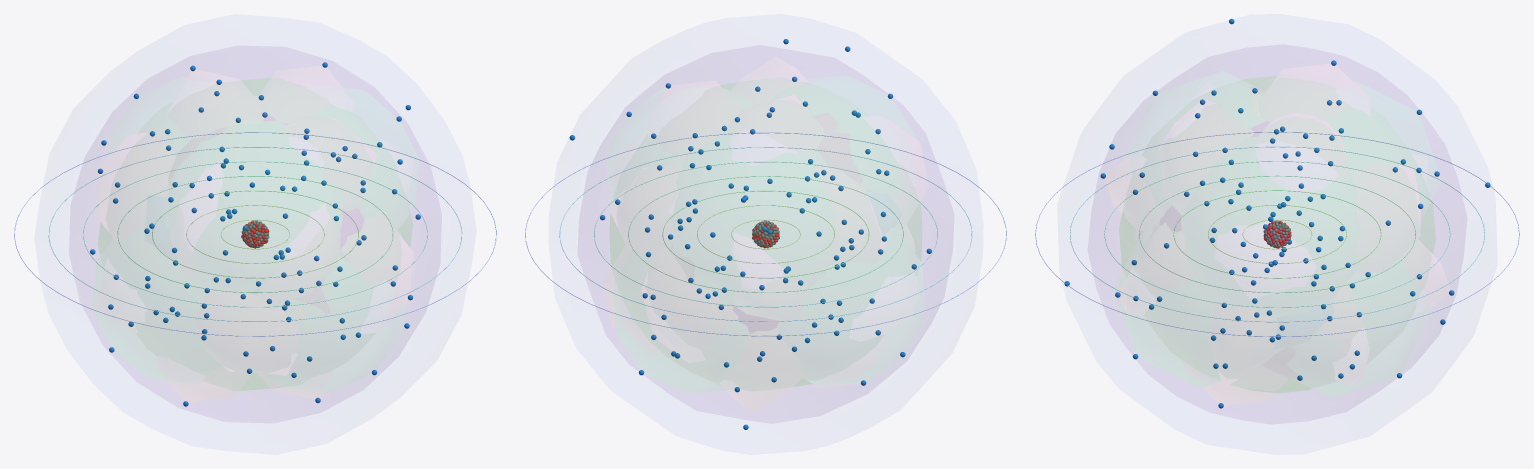
3 renders of one model, left to right at view 1: azimuth 30°, elevation 25°; view 2: azimuth 150°, elevation 25°; view 3: azimuth 270°, elevation 25°, orthographic.
Parts seen in each view (by area): view 1: Nivel_n7, Nivel_n6, Orbital_5s_0, Nivel_n5, Nivel_n4, Nivel_n3; view 2: Nivel_n7, Nivel_n6, Orbital_5s_0, Nivel_n5, Nivel_n4, Nivel_n3; view 3: Orbital_5s_0, Nivel_n7, Nivel_n6, Nivel_n5, Nivel_n4, Nivel_n3.
Part boxes in pixels (x1=…): Nivel_n7: x1=14, y1=132, x2=496, y2=336; Nivel_n6: x1=48, y1=147, x2=462, y2=321; Orbital_5s_0: x1=98, y1=78, x2=412, y2=390; Nivel_n5: x1=83, y1=161, x2=427, y2=307; Nivel_n4: x1=117, y1=176, x2=393, y2=292; Nivel_n3: x1=152, y1=190, x2=358, y2=278; Nivel_n7: x1=525, y1=132, x2=1006, y2=336; Nivel_n6: x1=559, y1=147, x2=972, y2=321; Orbital_5s_0: x1=610, y1=83, x2=921, y2=385; Nivel_n5: x1=594, y1=161, x2=937, y2=307; Nivel_n4: x1=628, y1=176, x2=903, y2=292; Nivel_n3: x1=662, y1=190, x2=869, y2=278; Orbital_5s_0: x1=1119, y1=76, x2=1435, y2=392; Nivel_n7: x1=1035, y1=132, x2=1519, y2=336; Nivel_n6: x1=1070, y1=146, x2=1484, y2=322; Nivel_n5: x1=1104, y1=161, x2=1450, y2=307; Nivel_n4: x1=1139, y1=175, x2=1415, y2=293; Nivel_n3: x1=1173, y1=190, x2=1381, y2=278.
Bounding box in the file's own units: 2.1 × 1.93 × 2.1.
